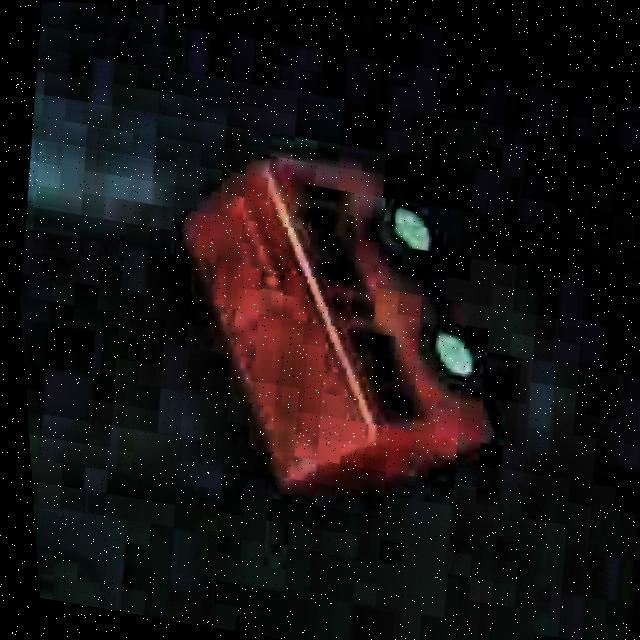bus: (128, 115, 548, 540)
